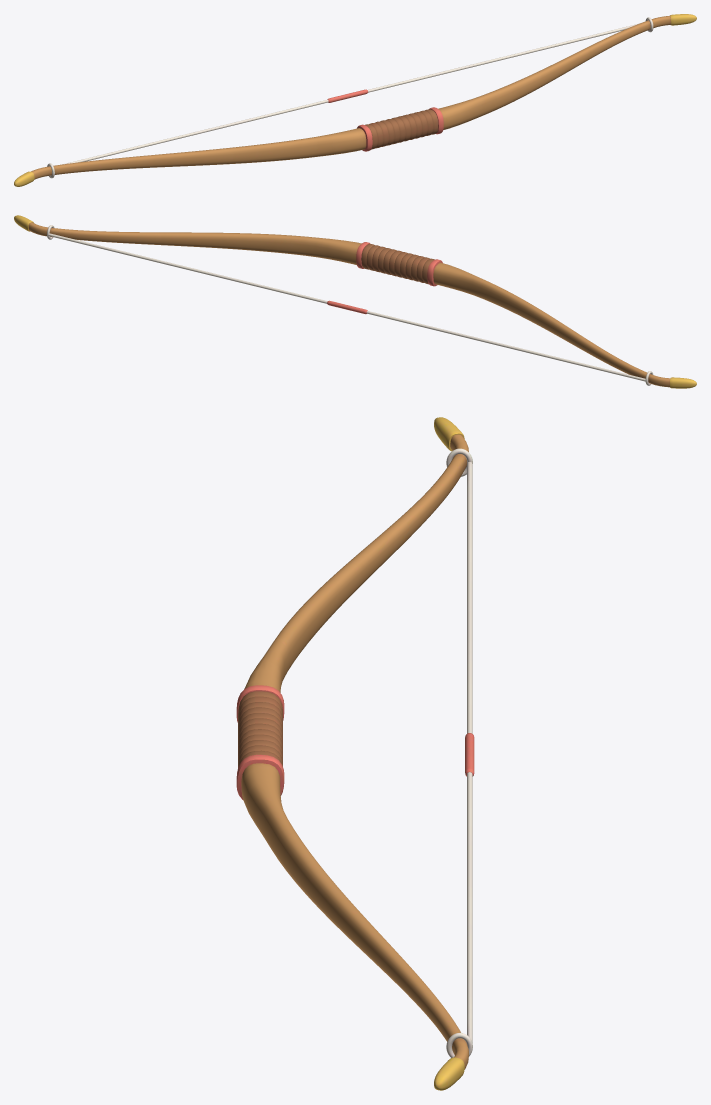
File: long-bow.glb
3 renders of one model, top to bottom at view 1: azimuth 30°, elevation 25°; view 2: azimuth 150°, elevation 25°; view 3: azimuth 270°, elevation 25°, orthographic. The views are drawn at different scales.
Parts seen in each view (by area): view 1: bow_body; view 2: bow_body; view 3: bow_body.
Boxes of the visible parts, x1=… form: bow_body: x1=14, y1=14, x2=696, y2=186; bow_body: x1=14, y1=215, x2=696, y2=388; bow_body: x1=236, y1=417, x2=474, y2=1090.
Size of the model in its own units: 1.21 by 0.0402 by 0.1824.
Materials: 1 (1 with a texture image).
